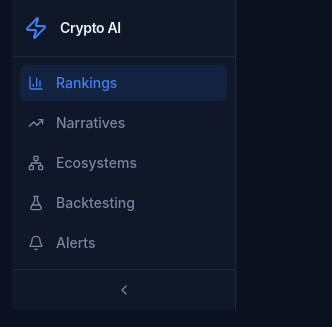
Test: Sidebar › hides_nav_labels_and_brand_name_after_collapse
The image size is (332, 327).
Expected: the text "Rankings" is shown, [56, 73, 117, 93]
What coordinates should you click on to do the following:
click the button named "collapse sidebar"
I would click on:
 (124, 290)
Its box is [12, 269, 235, 310].
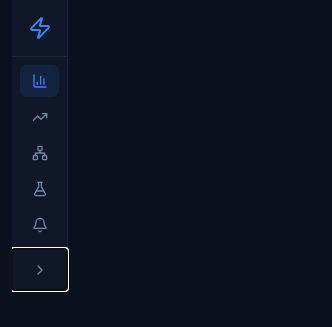
Now the text "Rankings" is gone
Now the text "Narratives" is gone
Now the text "Alerts" is gone
